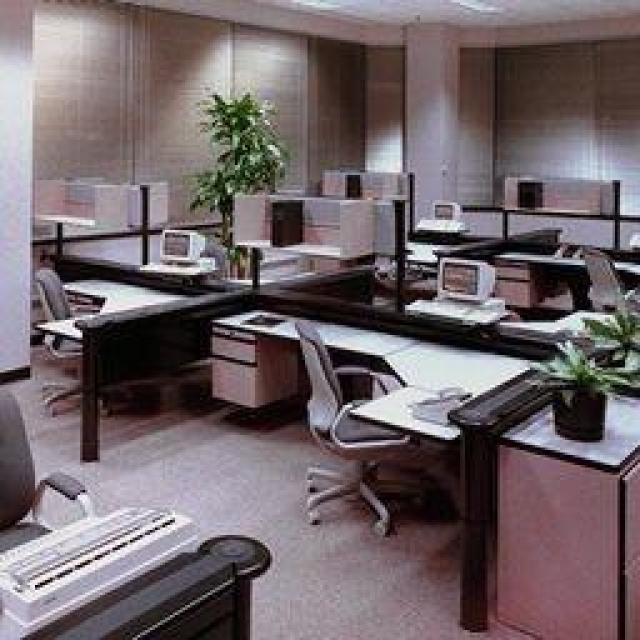chair: (292, 317, 418, 535)
plants: (180, 87, 290, 275), (528, 338, 638, 440)
television: (158, 227, 202, 265)
